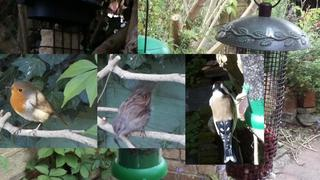dunnock: (112, 81, 159, 140)
goldfinch: (209, 81, 237, 164)
robin: (5, 81, 71, 140)
